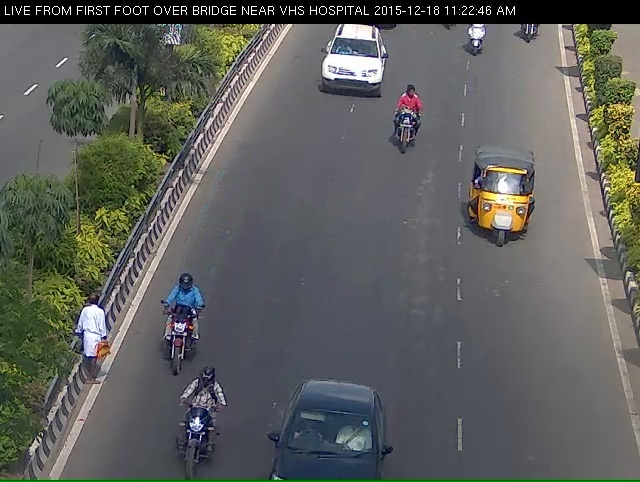Auto: (463, 153, 542, 263)
Car: (262, 395, 382, 478), (312, 23, 386, 103)
Person: (140, 292, 196, 394), (160, 400, 215, 478), (71, 289, 113, 388), (385, 89, 427, 167), (459, 25, 494, 65)
